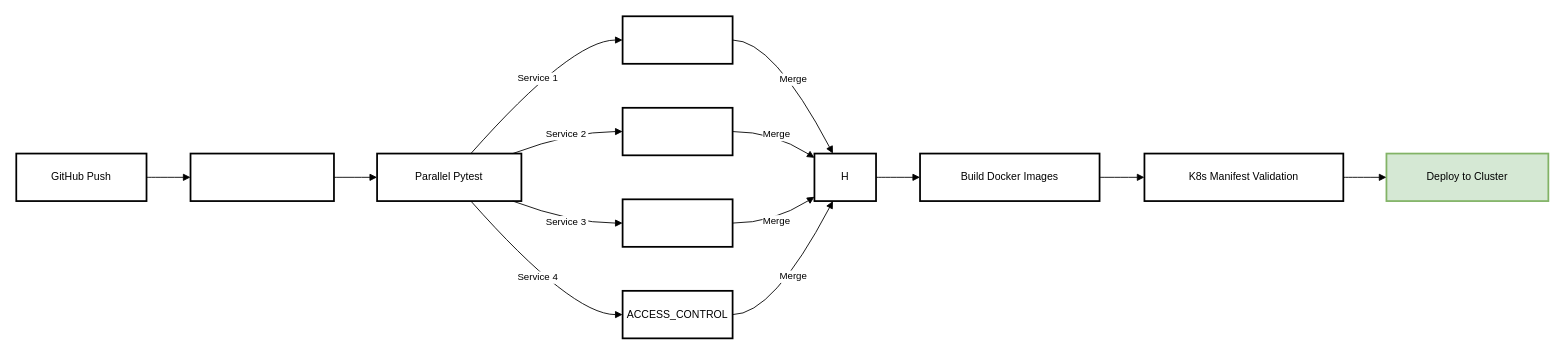
Some shapes in this 1564 by 354 pixel diagram are drawn without their labels. Each missing label, with the centre of its shape:
ENTITLEMENTS: [677,39]
LICENISING: [677,131]
Static Analysis: [261,177]
TELEMETRY: [677,222]
